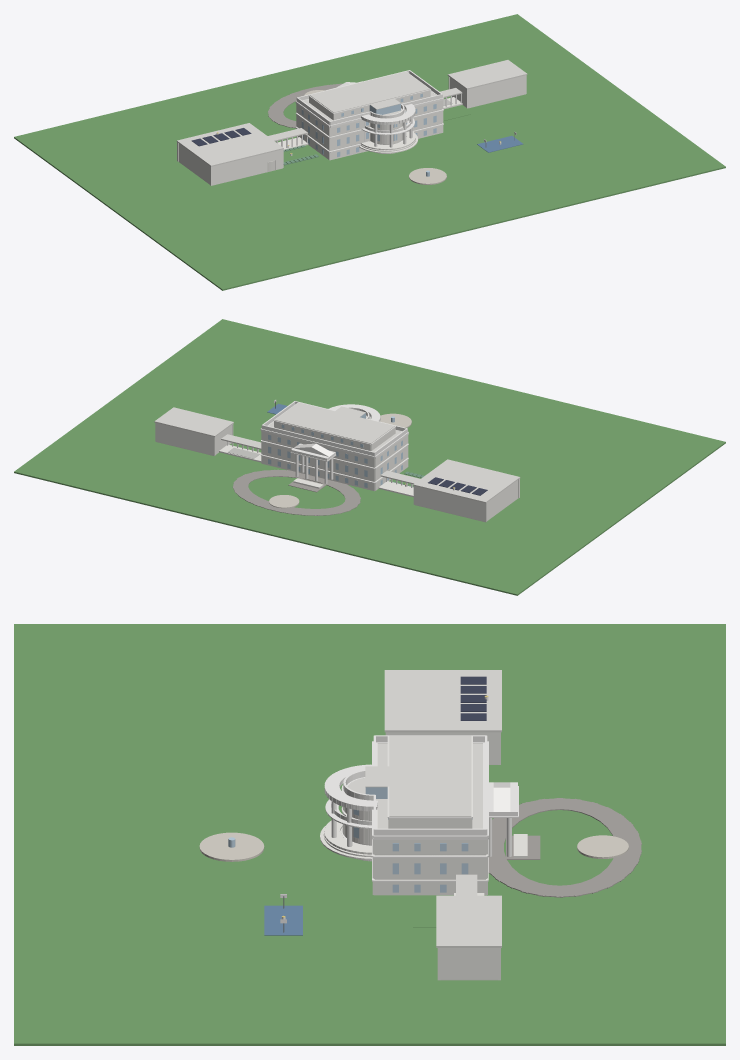
File: the-white-house.glb
3 renders of one model, top to bottom at view 1: azimuth 30°, elevation 25°; view 2: azimuth 150°, elevation 25°; view 3: azimuth 270°, elevation 25°, orthographic. The views are drawn at different scales.
Visible parts, largest first — view 1: MERGED_WH_Lawn, MERGED_WH_Stone_White, ROOF_WH_Ceiling, MERGED_WH_Trim_White, MERGED_WH_Glass, MERGED_WH_Drive, MERGED_WH_Path; view 2: MERGED_WH_Lawn, MERGED_WH_Stone_White, ROOF_WH_Ceiling, MERGED_WH_Trim_White, MERGED_WH_Drive, MERGED_WH_Glass, MERGED_WH_Path; view 3: MERGED_WH_Lawn, ROOF_WH_Ceiling, MERGED_WH_Stone_White, MERGED_WH_Trim_White, MERGED_WH_Drive, MERGED_WH_Path, MERGED_WH_Glass, MERGED_WH_Court_Blue, MERGED_WH_SolarPanel.
Part boxes in pixels (<box>): MERGED_WH_Lawn: <box>14,14,725,290</box>; MERGED_WH_Stone_White: <box>177,75,526,185</box>; ROOF_WH_Ceiling: <box>176,60,527,166</box>; MERGED_WH_Trim_White: <box>276,70,516,152</box>; MERGED_WH_Glass: <box>301,93,436,176</box>; MERGED_WH_Drive: <box>267,83,342,128</box>; MERGED_WH_Path: <box>304,90,446,184</box>; MERGED_WH_Lawn: <box>14,319,725,595</box>; MERGED_WH_Stone_White: <box>155,420,519,521</box>; ROOF_WH_Ceiling: <box>154,402,520,503</box>; MERGED_WH_Trim_White: <box>227,400,412,487</box>; MERGED_WH_Drive: <box>232,469,360,515</box>; MERGED_WH_Glass: <box>268,413,402,487</box>; MERGED_WH_Path: <box>269,413,411,508</box>; MERGED_WH_Lawn: <box>14,624,725,1045</box>; ROOF_WH_Ceiling: <box>348,670,501,947</box>; MERGED_WH_Stone_White: <box>320,732,527,980</box>; MERGED_WH_Trim_White: <box>280,735,518,923</box>; MERGED_WH_Drive: <box>488,798,641,897</box>; MERGED_WH_Path: <box>199,832,628,861</box>; MERGED_WH_Glass: <box>228,787,472,892</box>; MERGED_WH_Court_Blue: <box>264,905,302,935</box>; MERGED_WH_SolarPanel: <box>460,676,486,720</box>.
Bounding box in the file's own units: 368 × 43.25 × 264.
